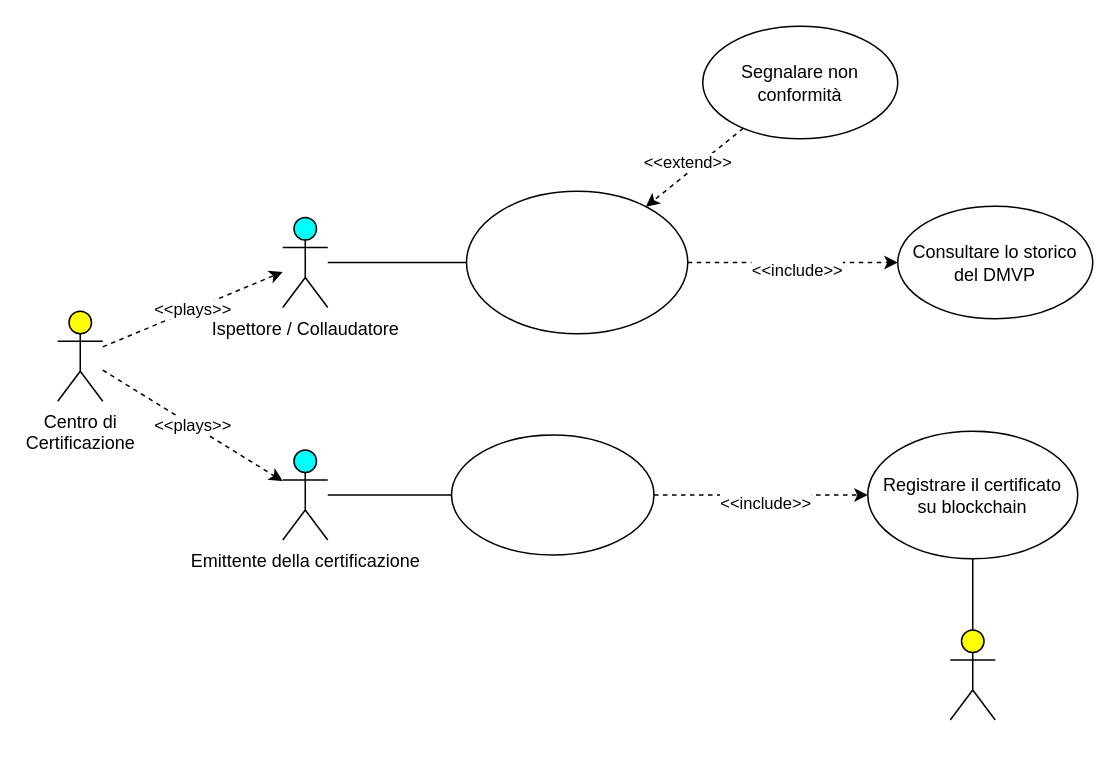
This 1119x777 diagram has some shape labels left out. The box of each missing label's shape, as (x1, y1, x2, y2) in pixels:
Intermediario: (949, 628, 995, 720)
Ispezionare e collaudare le modifiche: (465, 190, 688, 334)
Rilasciare e registrare la certificazione: (450, 434, 654, 555)
